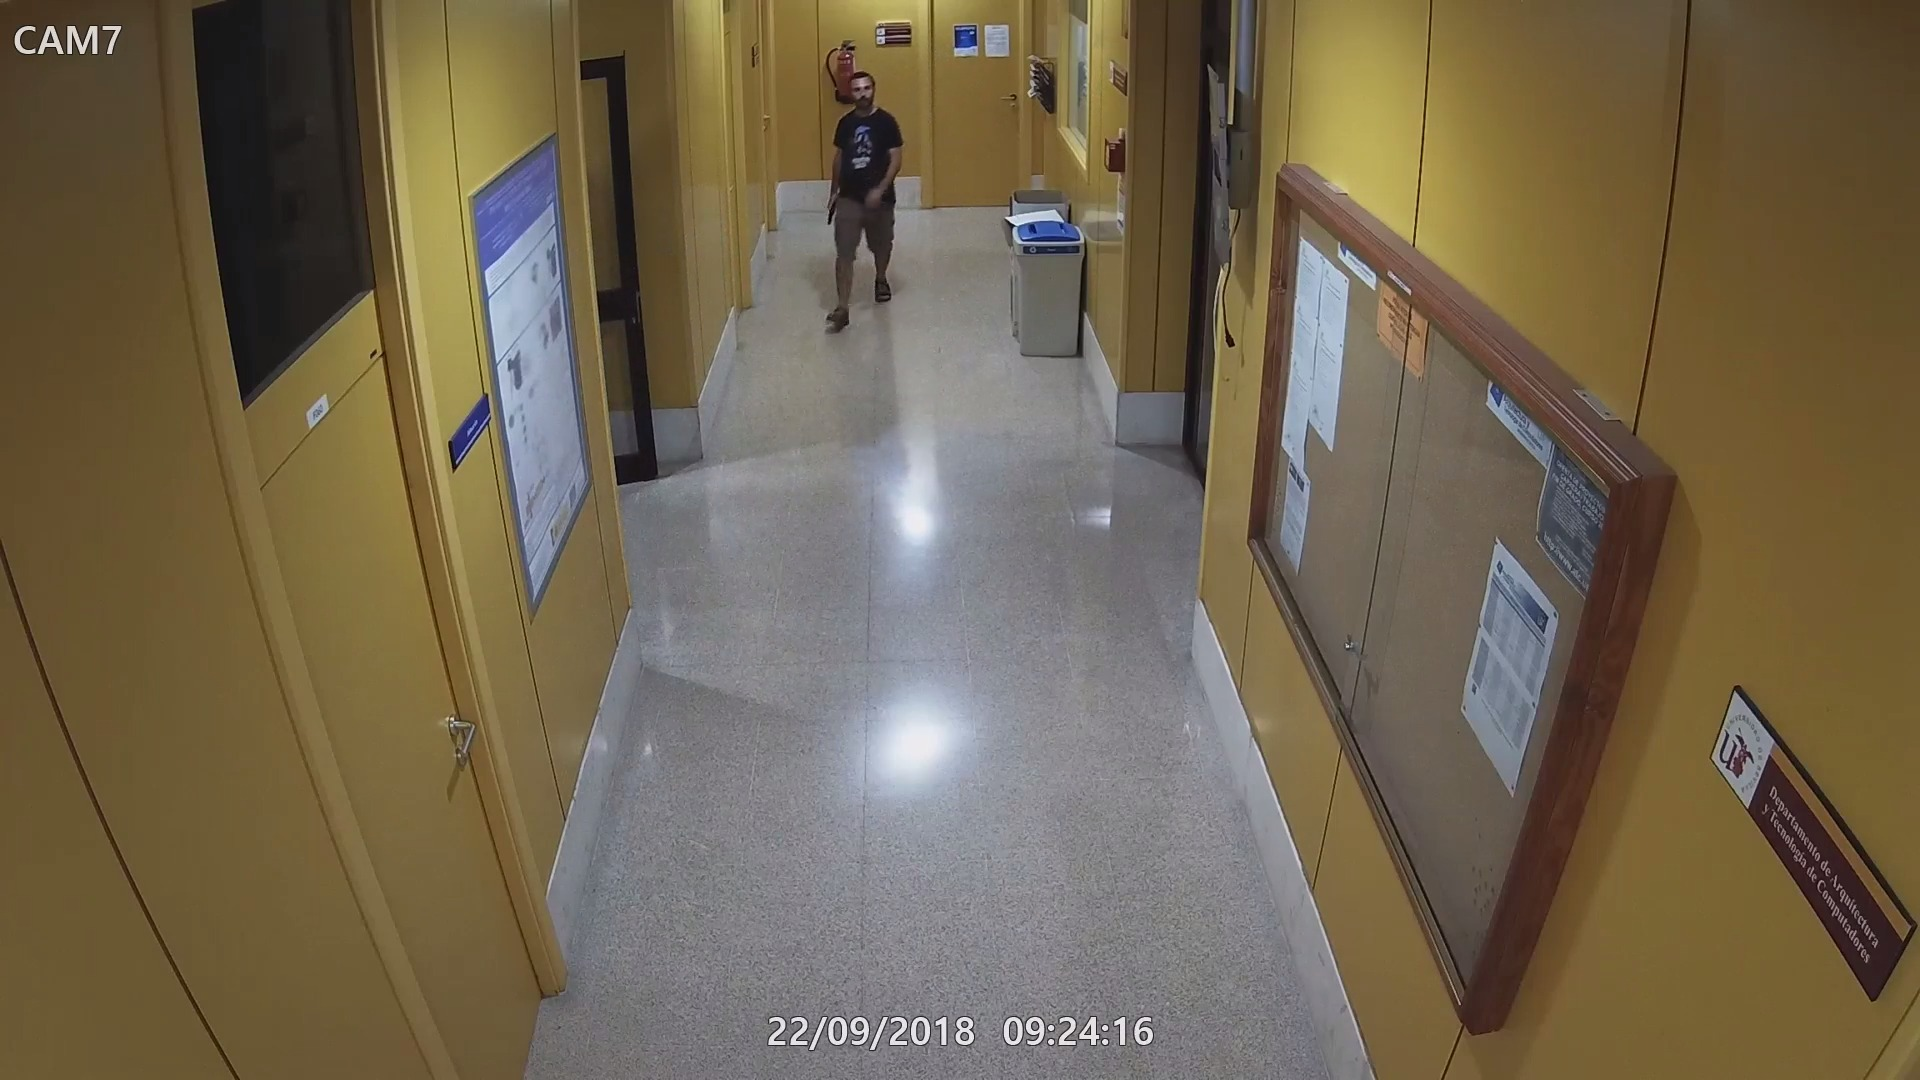Handgun: (822, 193, 847, 228)
